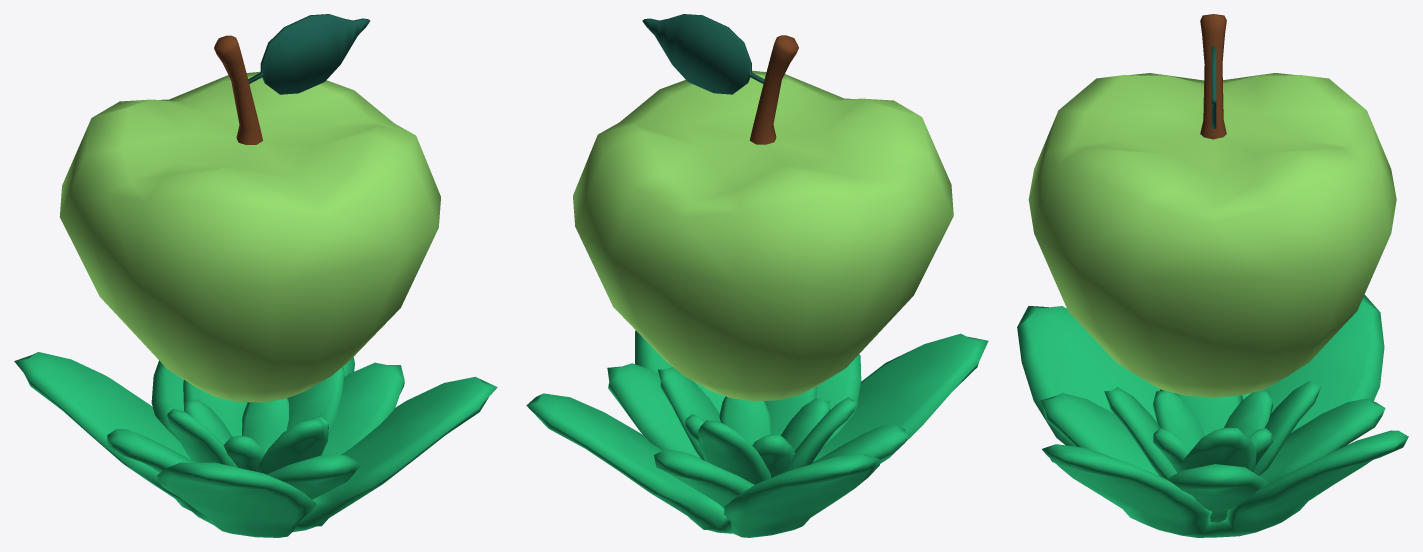
File: Tree-Apple-no2.gltf
3 views of the same model, side by side, from view 1: azimuth 30°, elevation 25°; view 2: azimuth 150°, elevation 25°; view 3: azimuth 270°, elevation 25° (orthographic).
Visible parts, largest first — view 1: Tree-Cactus-no2; view 2: Tree-Cactus-no2; view 3: Tree-Cactus-no2.
Part boxes in pixels (bbox=[...]): Tree-Cactus-no2: bbox=[14, 14, 497, 537]; Tree-Cactus-no2: bbox=[526, 14, 988, 537]; Tree-Cactus-no2: bbox=[1017, 14, 1408, 537].
Size of the model in its own units: 0.8819 by 1.21 by 0.8683.
1 material, 1 textured.
